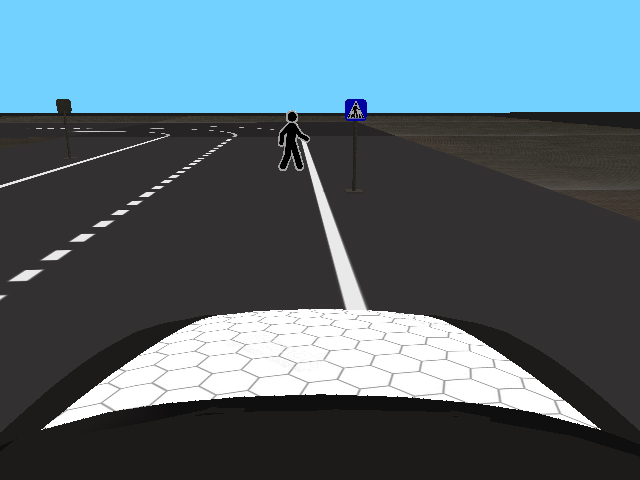pedestrian: (276, 110, 309, 173)
pedestrian_cross: (345, 99, 367, 121)
